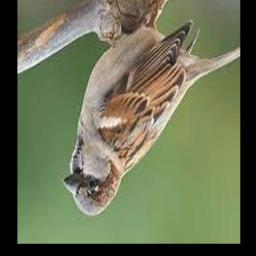Sparrow: (63, 19, 240, 216)
